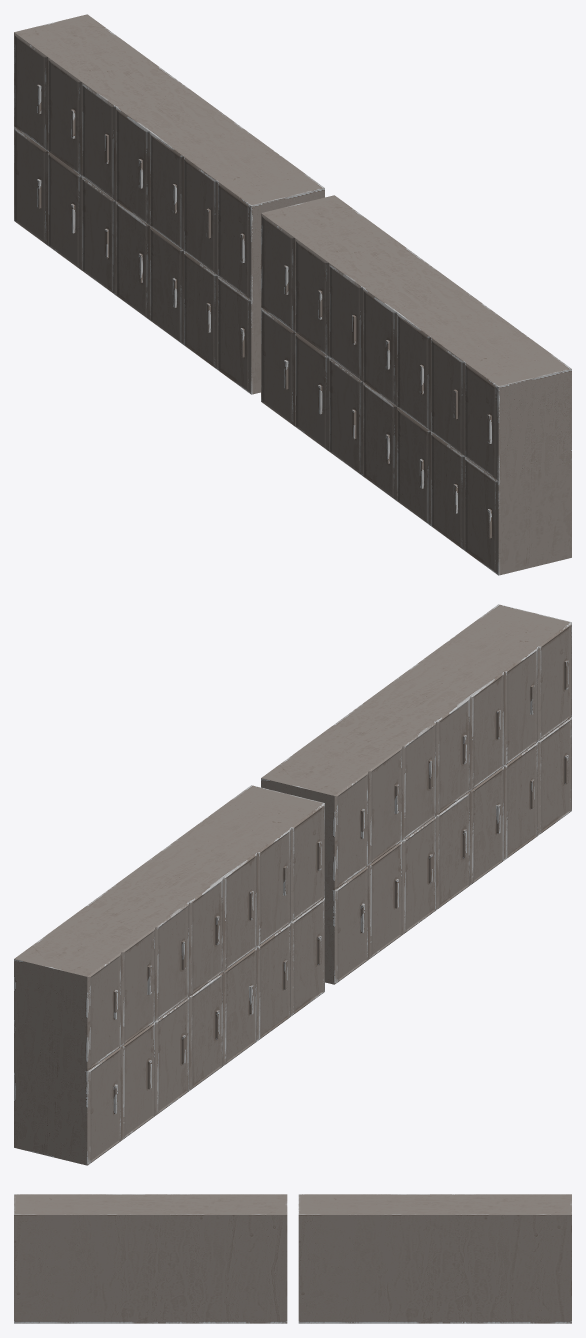
Rendered from backShelves_EMBED.fbx.
3 views of the same model, one above another, from view 1: azimuth 30°, elevation 25°; view 2: azimuth 150°, elevation 25°; view 3: azimuth 270°, elevation 25° (orthographic). The views are drawn at different scales.
Visible parts, largest first — view 1: backShelves.001, backShelves; view 2: backShelves, backShelves.001; view 3: backShelves, backShelves.001.
Boxes of the visible parts, x1,y1,x2,y2 form: backShelves.001: [261, 195, 571, 575]; backShelves: [14, 14, 324, 394]; backShelves: [14, 785, 324, 1165]; backShelves.001: [261, 604, 571, 984]; backShelves: [298, 1194, 571, 1323]; backShelves.001: [14, 1194, 287, 1323].
Size of the model in its own units: 463 by 1096 by 5098.
Materials: 1 (1 with a texture image).
